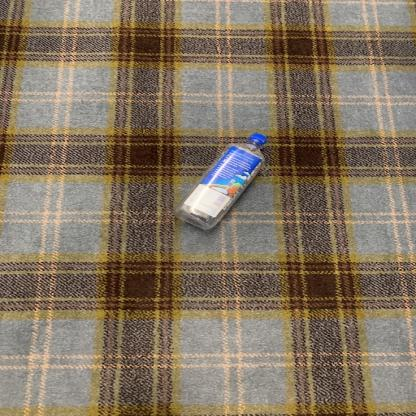trash: (174, 131, 270, 231)
